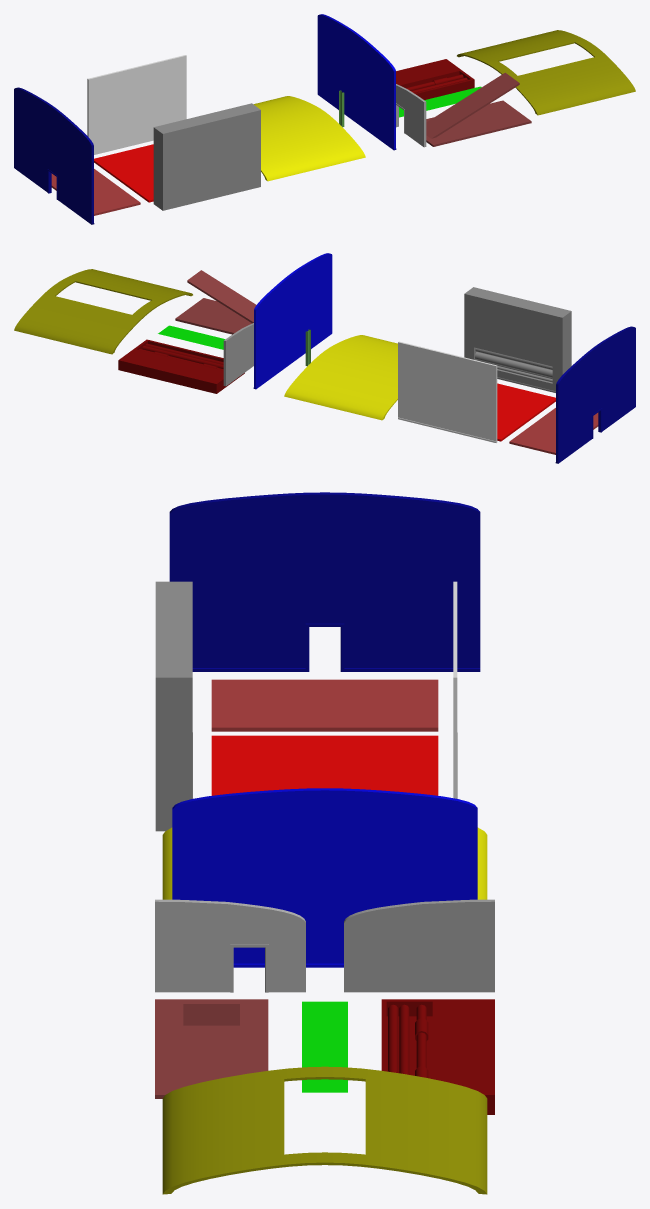
Rendered from Carriage_Parts.fbx.
The picture shows the model from 3 angles, top to bottom: view 1: azimuth 30°, elevation 25°; view 2: azimuth 150°, elevation 25°; view 3: azimuth 270°, elevation 25°; orthographic projection. The views are drawn at different scales.
Parts seen in each view (by area): view 1: GEO_Carriage_Wall_Pipes, GEO_Carriage_Wall, GEO_Carriage_End_Door, GEO_Carriage_End, GEO_Carriage_Roof_Skylight, GEO_Carriage_Roof, GEO_Carriage_FloorHalf_Ramp, GEO_Carriage_Floor_Half_Pipes, GEO_Carriage_Floor, GEO_Carriage_Wall_Half_Door, GEO_Carriage_Floor_Half, GEO_Carriage_Grate; view 2: GEO_Carriage_Wall_Pipes, GEO_Carriage_Wall, GEO_Carriage_End_Door, GEO_Carriage_End, GEO_Carriage_Roof_Skylight, GEO_Carriage_Roof, GEO_Carriage_Floor_Half_Pipes, GEO_Carriage_FloorHalf_Ramp, GEO_Carriage_Floor, GEO_Carriage_Wall_Half, GEO_Carriage_Floor_Half, GEO_Carriage_Grate; view 3: GEO_Carriage_End_Door, GEO_Carriage_End, GEO_Carriage_Roof_Skylight, GEO_Carriage_Wall_Half, GEO_Carriage_Floor, GEO_Carriage_Floor_Half, GEO_Carriage_Wall_Half_Door, GEO_Carriage_Floor_Half_Pipes, GEO_Carriage_FloorHalf_Ramp, GEO_Carriage_Wall_Pipes, GEO_Carriage_Grate, GEO_Carriage_Roof (+1 smaller).
Part boxes in pixels (x1=…): GEO_Carriage_Wall_Pipes: x1=153, y1=103, x2=260, y2=210; GEO_Carriage_Wall: x1=87, y1=55, x2=186, y2=154; GEO_Carriage_End_Door: x1=14, y1=87, x2=94, y2=224; GEO_Carriage_End: x1=317, y1=14, x2=396, y2=150; GEO_Carriage_Roof_Skylight: x1=457, y1=30, x2=635, y2=115; GEO_Carriage_Roof: x1=253, y1=96, x2=365, y2=181; GEO_Carriage_FloorHalf_Ramp: x1=426, y1=72, x2=531, y2=146; GEO_Carriage_Floor_Half_Pipes: x1=396, y1=59, x2=474, y2=100; GEO_Carriage_Floor: x1=94, y1=144, x2=153, y2=202; GEO_Carriage_Wall_Half_Door: x1=396, y1=84, x2=426, y2=147; GEO_Carriage_Floor_Half: x1=51, y1=169, x2=140, y2=215; GEO_Carriage_Grate: x1=399, y1=86, x2=481, y2=117; GEO_Carriage_Wall_Pipes: x1=464, y1=287, x2=571, y2=392; GEO_Carriage_Wall: x1=398, y1=341, x2=497, y2=442; GEO_Carriage_End_Door: x1=555, y1=326, x2=635, y2=463; GEO_Carriage_End: x1=253, y1=253, x2=332, y2=389; GEO_Carriage_Roof_Skylight: x1=14, y1=269, x2=192, y2=354; GEO_Carriage_Roof: x1=284, y1=335, x2=397, y2=420; GEO_Carriage_Floor_Half_Pipes: x1=118, y1=339, x2=244, y2=393; GEO_Carriage_FloorHalf_Ramp: x1=175, y1=270, x2=256, y2=334; GEO_Carriage_Floor: x1=497, y1=383, x2=555, y2=441; GEO_Carriage_Wall_Half: x1=223, y1=323, x2=253, y2=386; GEO_Carriage_Floor_Half: x1=509, y1=408, x2=598, y2=454; GEO_Carriage_Grate: x1=158, y1=325, x2=225, y2=349; GEO_Carriage_End_Door: x1=169, y1=492, x2=480, y2=671; GEO_Carriage_End: x1=172, y1=788, x2=477, y2=967; GEO_Carriage_Roof_Skylight: x1=162, y1=1066, x2=487, y2=1194; GEO_Carriage_Wall_Half: x1=344, y1=899, x2=494, y2=992; GEO_Carriage_Floor: x1=211, y1=735, x2=438, y2=795; GEO_Carriage_Floor_Half: x1=211, y1=679, x2=438, y2=731; GEO_Carriage_Wall_Half_Door: x1=155, y1=899, x2=305, y2=992; GEO_Carriage_Floor_Half_Pipes: x1=381, y1=999, x2=494, y2=1114; GEO_Carriage_FloorHalf_Ramp: x1=155, y1=999, x2=268, y2=1098; GEO_Carriage_Wall_Pipes: x1=155, y1=581, x2=192, y2=831; GEO_Carriage_Grate: x1=302, y1=1001, x2=347, y2=1092; GEO_Carriage_Roof: x1=162, y1=827, x2=487, y2=899.
Size of the model in its own units: 5305 by 919 by 1440.
